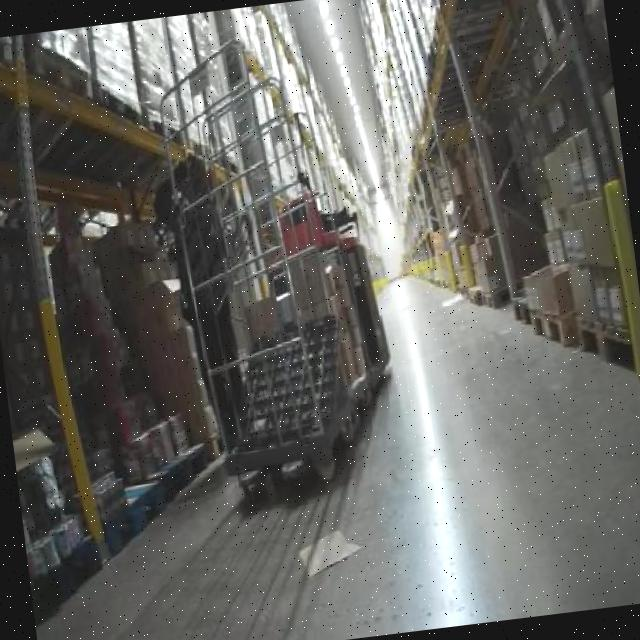pallet: (23, 37, 99, 110), (529, 308, 578, 349)
